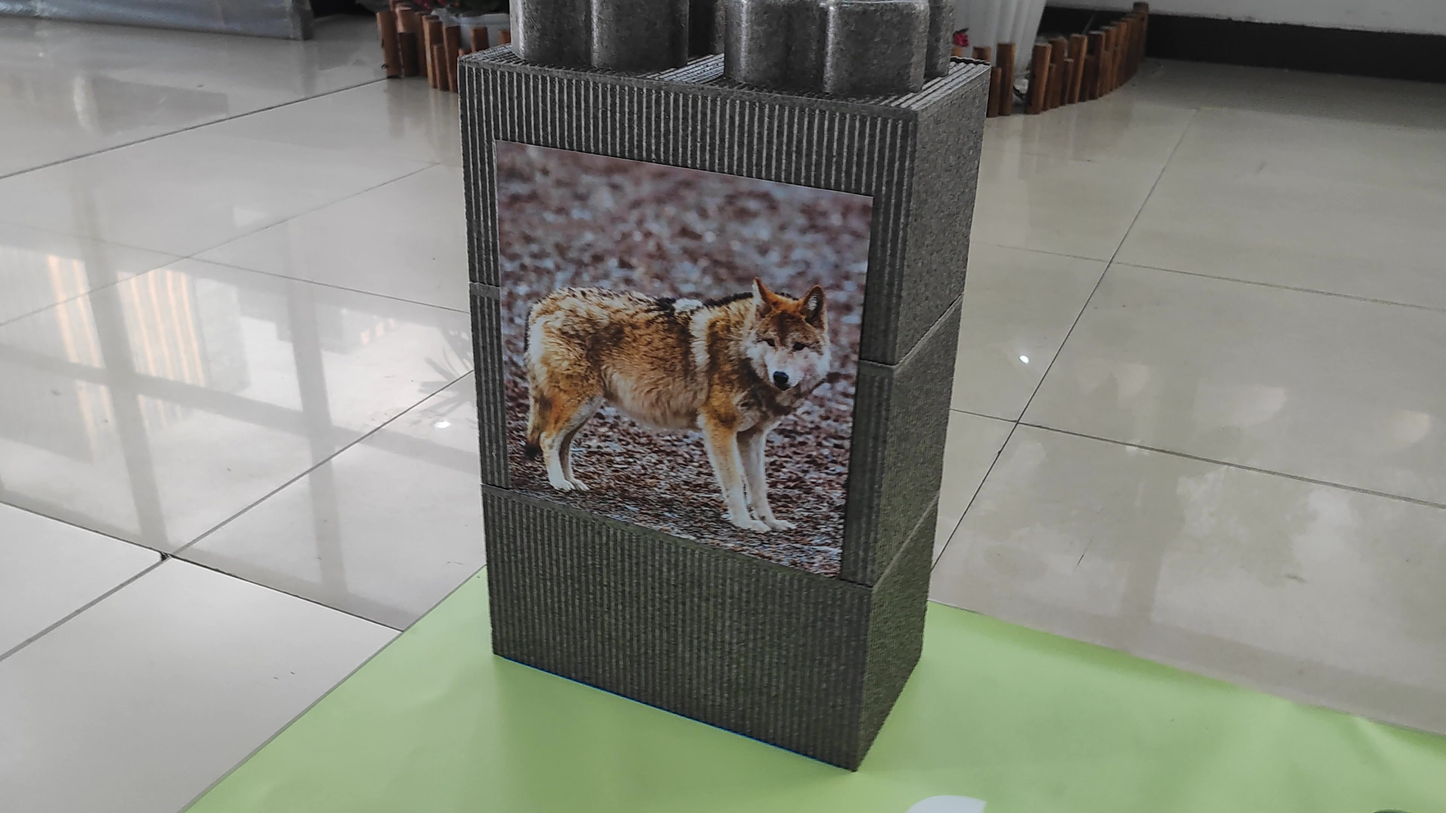wolf: (502, 248, 832, 521)
